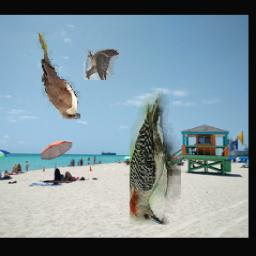Cuckoo: (37, 32, 80, 120)
Swallow: (85, 49, 120, 80)
Woodpecker: (130, 89, 181, 225)
